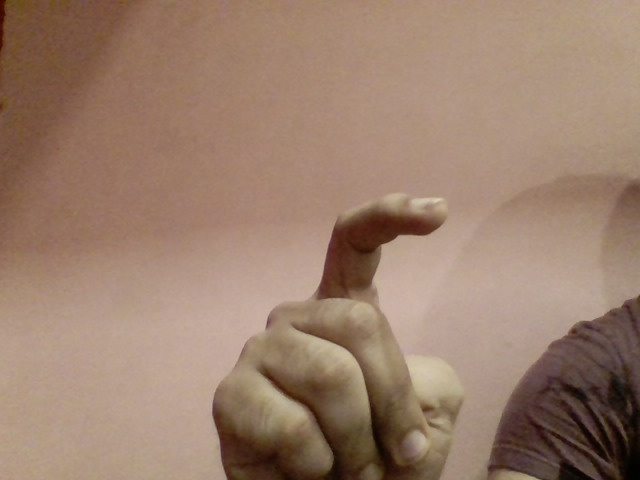x: (195, 174, 487, 473)
